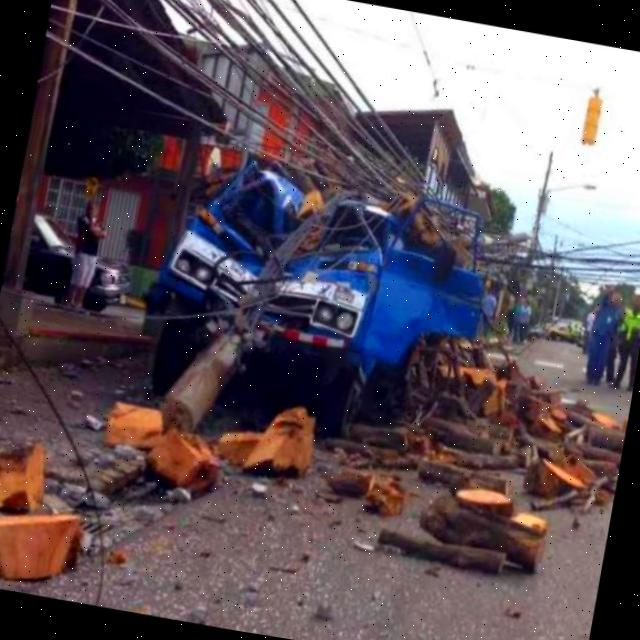Broken Pole: (159, 188, 384, 435)
